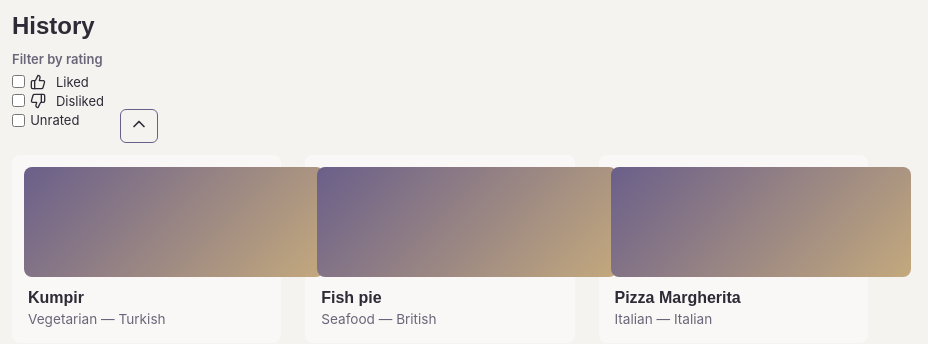
Scenario: History › filters by disliked entries when disliked checkbox is toggled
Click the checkbox labelled "Disliked": [18, 101] box [12,94,25,107]
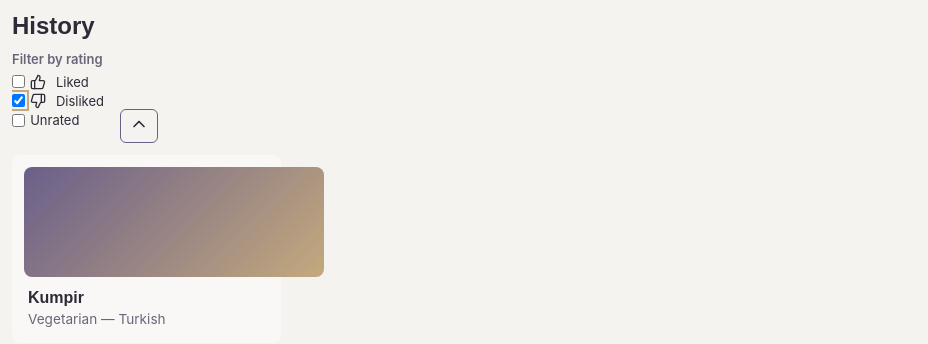
expect the heading "Kumpir" is shown: met, box [28,289,84,306]
expect the link "Pizza Margherita" is gone: met
expect the link "Fish pie" is gone: met
